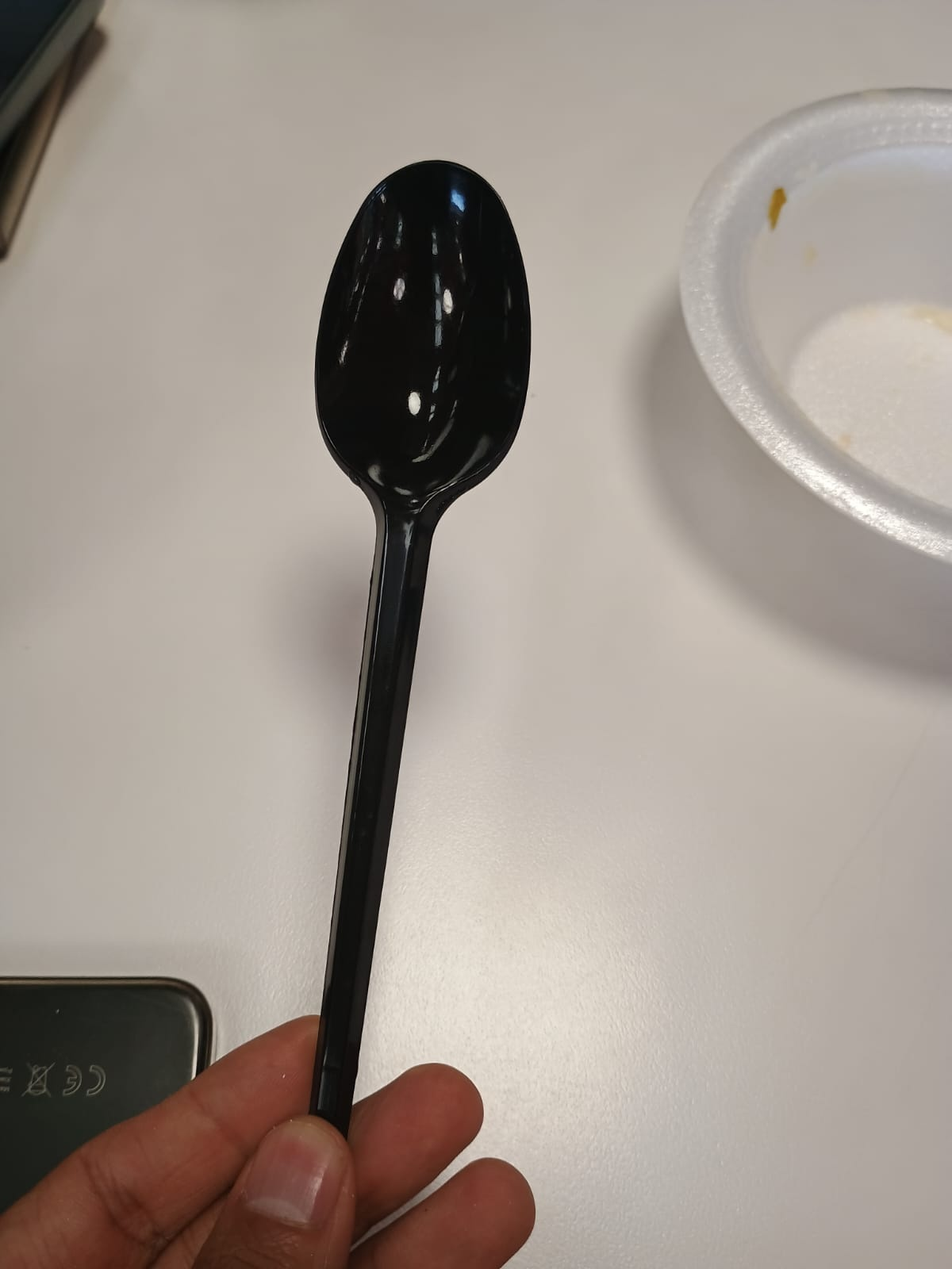Ordinario: (313, 161, 531, 1117)
